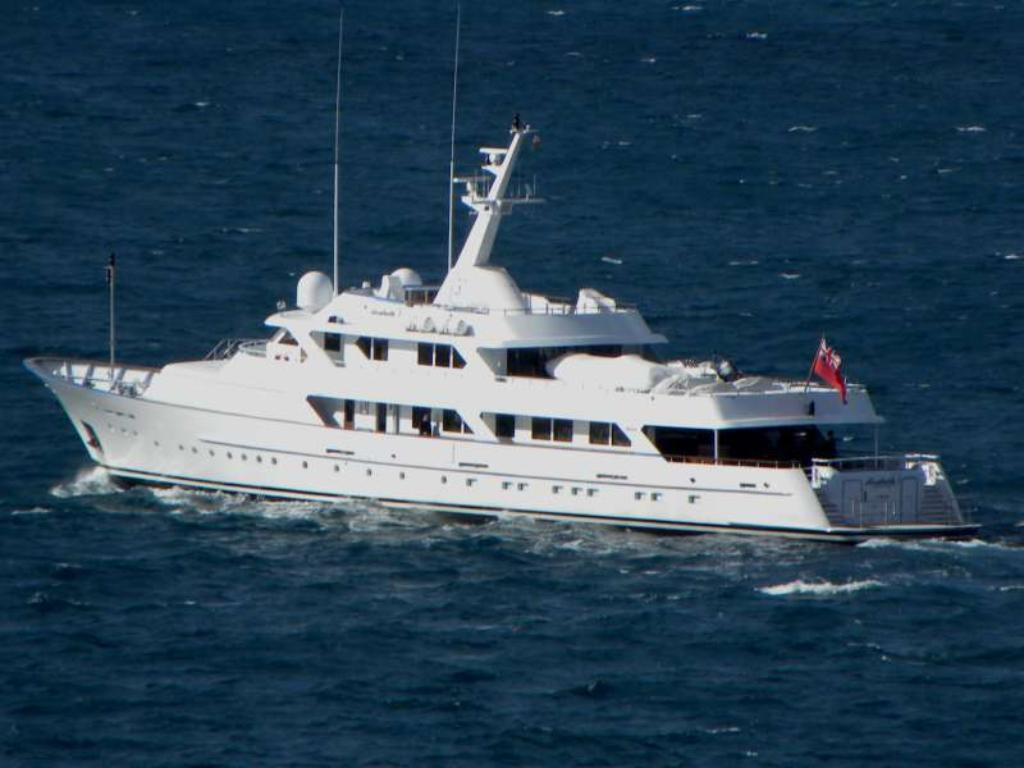PassengerShip: (18, 104, 970, 540)
